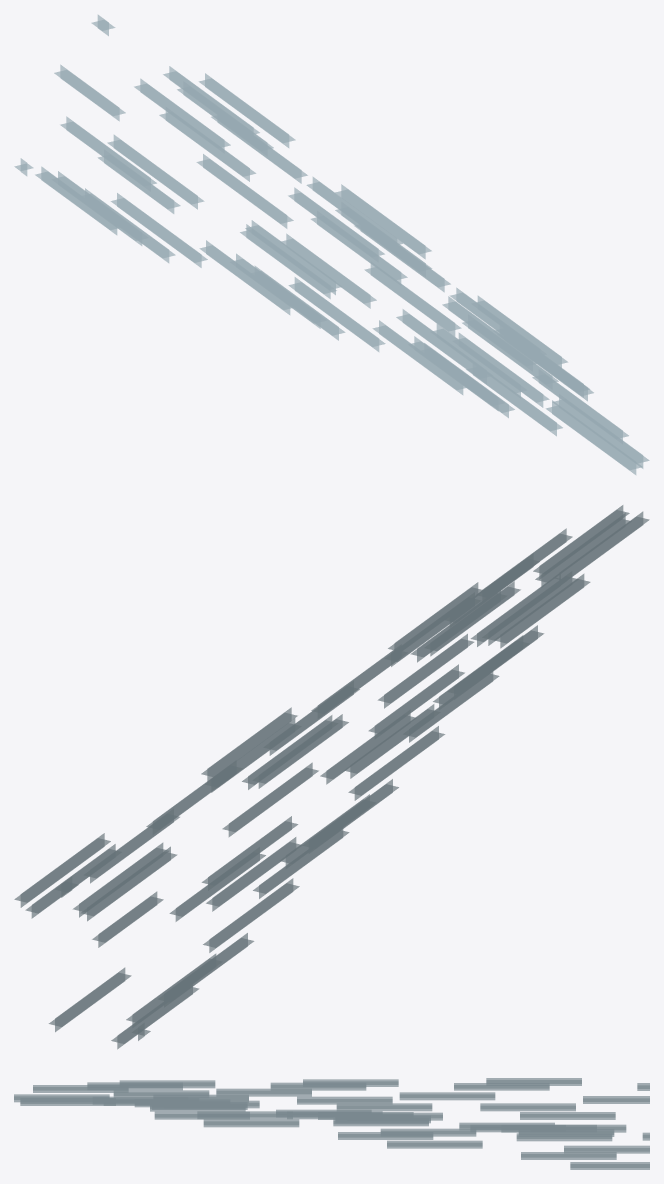
File: wp_water_346.obj
3 renders of one model, top to bottom at view 1: azimuth 30°, elevation 25°; view 2: azimuth 150°, elevation 25°; view 3: azimuth 270°, elevation 25°, orthographic. The views are drawn at different scales.
Size of the model in its own units: 0.2935 by 0.2448 by 1.6.
1 material, 1 textured.
